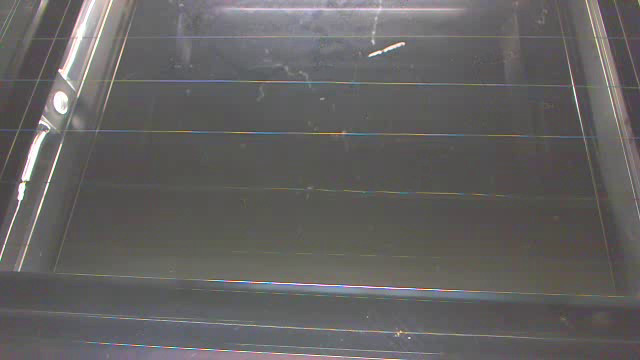alpha: (367, 40, 409, 57)
